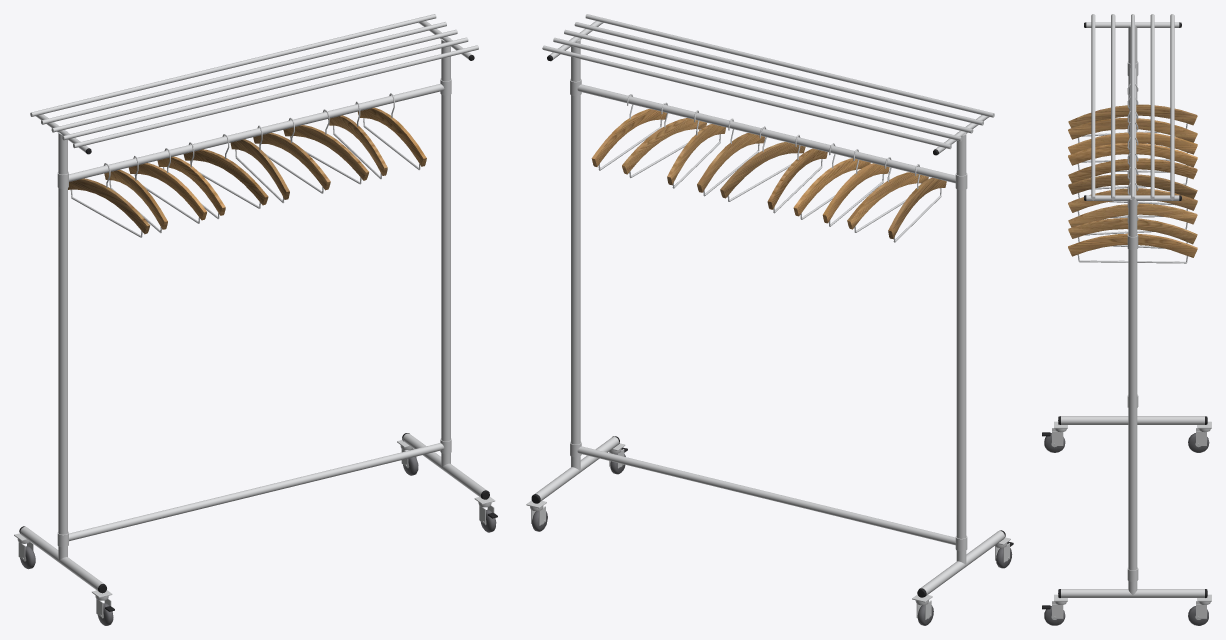
Rendered from fashion_garment_rack.glb.
The picture shows the model from 3 angles, left to right: view 1: azimuth 30°, elevation 25°; view 2: azimuth 150°, elevation 25°; view 3: azimuth 270°, elevation 25°; orthographic projection. The views are drawn at different scales.
Visible parts, largest first — view 1: Chrome frame, Oak hangers (10), Swivel caster 75 mm; view 2: Chrome frame, Oak hangers (10), Swivel caster 75 mm; view 3: Chrome frame, Oak hangers (10), Swivel caster 75 mm.
Boxes of the visible parts, x1=… form: Chrome frame: x1=14, y1=14, x2=497, y2=617; Oak hangers (10): x1=68, y1=107, x2=426, y2=234; Swivel caster 75 mm: x1=20, y1=457, x2=496, y2=625; Chrome frame: x1=526, y1=14, x2=1013, y2=619; Oak hangers (10): x1=591, y1=109, x2=946, y2=238; Swivel caster 75 mm: x1=532, y1=453, x2=1012, y2=625; Chrome frame: x1=1042, y1=14, x2=1211, y2=618; Oak hangers (10): x1=1068, y1=104, x2=1197, y2=257; Swivel caster 75 mm: x1=1044, y1=433, x2=1209, y2=625.
Bounding box in the file's own units: 1.53 × 1.7 × 0.602.
5 materials, 1 textured.
